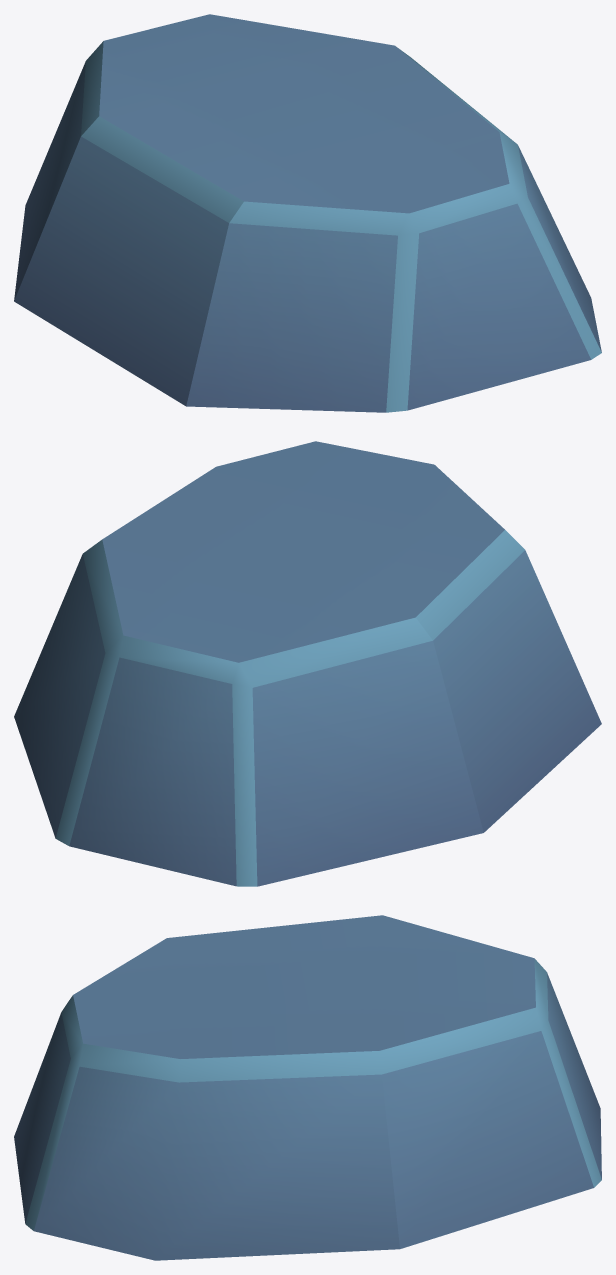
File: Rock-3-8.fbx
3 views of the same model, one above another, from view 1: azimuth 30°, elevation 25°; view 2: azimuth 150°, elevation 25°; view 3: azimuth 270°, elevation 25° (orthographic). The views are drawn at different scales.
Visible parts, largest first — view 1: Rock-3-8; view 2: Rock-3-8; view 3: Rock-3-8.
Boxes of the visible parts, bbox=[...] form: Rock-3-8: bbox=[14, 14, 601, 412]; Rock-3-8: bbox=[14, 441, 601, 886]; Rock-3-8: bbox=[14, 915, 601, 1260].
Size of the model in its own units: 58.82 by 23.22 by 71.06.
